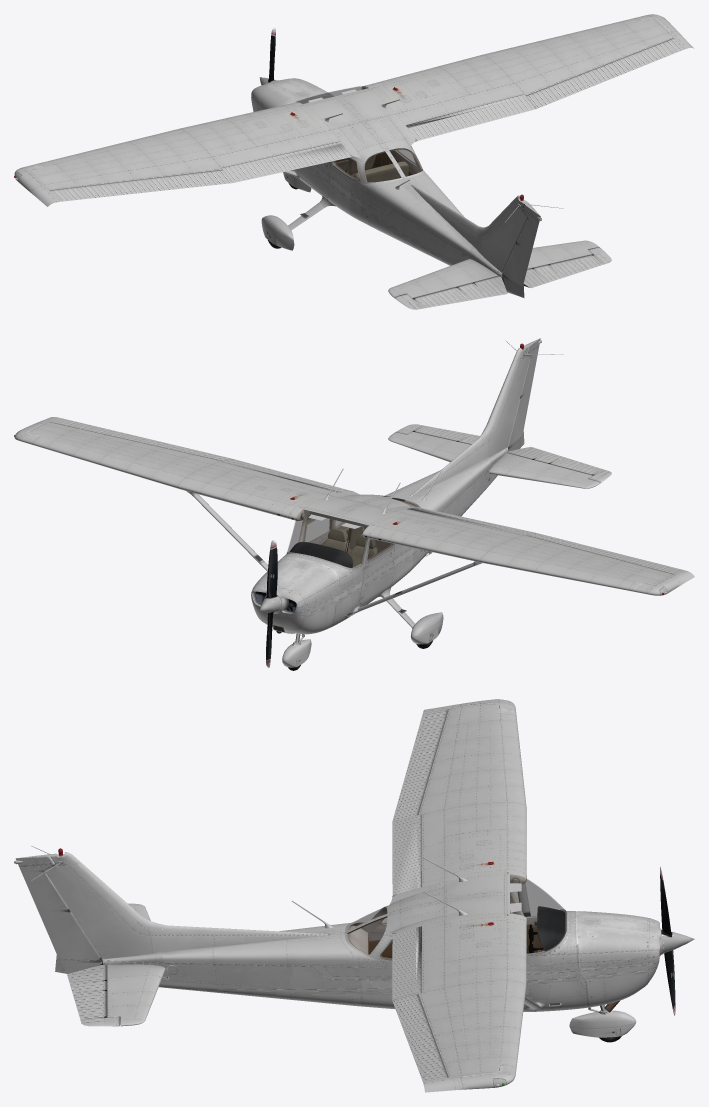
3 renders of one model, top to bottom at view 1: azimuth 30°, elevation 25°; view 2: azimuth 150°, elevation 25°; view 3: azimuth 270°, elevation 25°, orthographic. The views are drawn at different scales.
Parts seen in each view (by area): view 1: Cessna_Exterior_Body_MAT_0.004_Body_MAT_0, Cessna_Exterior_Body_MAT_0.002_Body_MAT_0, Cessna_Exterior_Body_MAT_0_Body_MAT_0, Cessna_Exterior_Body_MAT_0.018_Body_MAT_0, Cessna_Exterior_Body_MAT_0.007_Body_MAT_0, aileronR, aileronL, flapR, flapL, Cessna_Exterior_Glass_MAT_0_Glass_MAT_0, Cessna_Exterior_Body_MAT_0.010_Body_MAT_0, elevatorL (+6 smaller); view 2: Cessna_Exterior_Body_MAT_0_Body_MAT_0, Cessna_Exterior_Body_MAT_0.004_Body_MAT_0, Cessna_Exterior_Body_MAT_0.002_Body_MAT_0, Cessna_Exterior_Glass_MAT_0_Glass_MAT_0, Cessna_Exterior_Body_MAT_0.007_Body_MAT_0, Cessna_Exterior_Body_MAT_0.018_Body_MAT_0, Cessna_Exterior_Body_MAT_0.010_Body_MAT_0, Cessna_Interior_Interior_Body_MAT_0_Interior_Body_MAT_0, Cessna_Exterior_Body_MAT_0.011_Body_MAT_0, rudder, Cessna_Interior_Seats_MAT_0_Seats_MAT_0, elevatorL (+10 smaller); view 3: Cessna_Exterior_Body_MAT_0_Body_MAT_0, Cessna_Exterior_Body_MAT_0.002_Body_MAT_0, Cessna_Exterior_Body_MAT_0.004_Body_MAT_0, Cessna_Exterior_Body_MAT_0.018_Body_MAT_0, Cessna_Exterior_Body_MAT_0.007_Body_MAT_0, rudder, Cessna_Exterior_Glass_MAT_0_Glass_MAT_0, Cessna_Interior_Interior_Body_MAT_0_Interior_Body_MAT_0, Cessna_Exterior_Body_MAT_0.011_Body_MAT_0, aileronL, aileronR, flapL (+4 smaller).
Boxes of the visible parts, left/top/right/bottom form: Cessna_Exterior_Body_MAT_0.004_Body_MAT_0: left=364, top=14, right=694, bottom=124; Cessna_Exterior_Body_MAT_0.002_Body_MAT_0: left=14, top=102, right=339, bottom=206; Cessna_Exterior_Body_MAT_0_Body_MAT_0: left=251, top=78, right=428, bottom=228; Cessna_Exterior_Body_MAT_0.018_Body_MAT_0: left=373, top=174, right=502, bottom=278; Cessna_Exterior_Body_MAT_0.007_Body_MAT_0: left=410, top=183, right=563, bottom=272; aileronR: left=526, top=38, right=684, bottom=108; aileronL: left=49, top=169, right=233, bottom=201; flapR: left=406, top=94, right=535, bottom=140; flapL: left=222, top=141, right=351, bottom=182; Cessna_Exterior_Glass_MAT_0_Glass_MAT_0: left=296, top=86, right=422, bottom=181; Cessna_Exterior_Body_MAT_0.010_Body_MAT_0: left=388, top=259, right=497, bottom=298; elevatorL: left=395, top=276, right=507, bottom=309; Cessna_Exterior_Body_MAT_0_Body_MAT_0: left=251, top=491, right=427, bottom=634; Cessna_Exterior_Body_MAT_0.004_Body_MAT_0: left=14, top=417, right=338, bottom=521; Cessna_Exterior_Body_MAT_0.002_Body_MAT_0: left=362, top=509, right=694, bottom=595; Cessna_Exterior_Glass_MAT_0_Glass_MAT_0: left=287, top=495, right=418, bottom=567; Cessna_Exterior_Body_MAT_0.007_Body_MAT_0: left=410, top=340, right=563, bottom=496; Cessna_Exterior_Body_MAT_0.018_Body_MAT_0: left=383, top=447, right=508, bottom=553; Cessna_Exterior_Body_MAT_0.010_Body_MAT_0: left=489, top=453, right=600, bottom=488; Cessna_Interior_Interior_Body_MAT_0_Interior_Body_MAT_0: left=289, top=494, right=420, bottom=568; Cessna_Exterior_Body_MAT_0.011_Body_MAT_0: left=388, top=431, right=470, bottom=462; rudder: left=507, top=338, right=541, bottom=451; Cessna_Interior_Seats_MAT_0_Seats_MAT_0: left=322, top=526, right=390, bottom=566; elevatorL: left=507, top=447, right=611, bottom=482; Cessna_Exterior_Body_MAT_0_Body_MAT_0: left=344, top=874, right=662, bottom=1012; Cessna_Exterior_Body_MAT_0.002_Body_MAT_0: left=418, top=699, right=526, bottom=886; Cessna_Exterior_Body_MAT_0.004_Body_MAT_0: left=418, top=913, right=526, bottom=1092; Cessna_Exterior_Body_MAT_0.018_Body_MAT_0: left=102, top=923, right=353, bottom=1005; Cessna_Exterior_Body_MAT_0.007_Body_MAT_0: left=31, top=846, right=331, bottom=959; rudder: left=14, top=854, right=102, bottom=973; Cessna_Exterior_Glass_MAT_0_Glass_MAT_0: left=347, top=875, right=565, bottom=959; Cessna_Interior_Interior_Body_MAT_0_Interior_Body_MAT_0: left=346, top=874, right=566, bottom=960; Cessna_Exterior_Body_MAT_0.011_Body_MAT_0: left=107, top=964, right=165, bottom=1026; aileronL: left=392, top=709, right=448, bottom=821; aileronR: left=392, top=994, right=448, bottom=1081; flapL: left=392, top=814, right=421, bottom=894.
Bounding box in the file's own units: 11.05 × 2.6 × 8.28.
13 materials, 9 textured.
